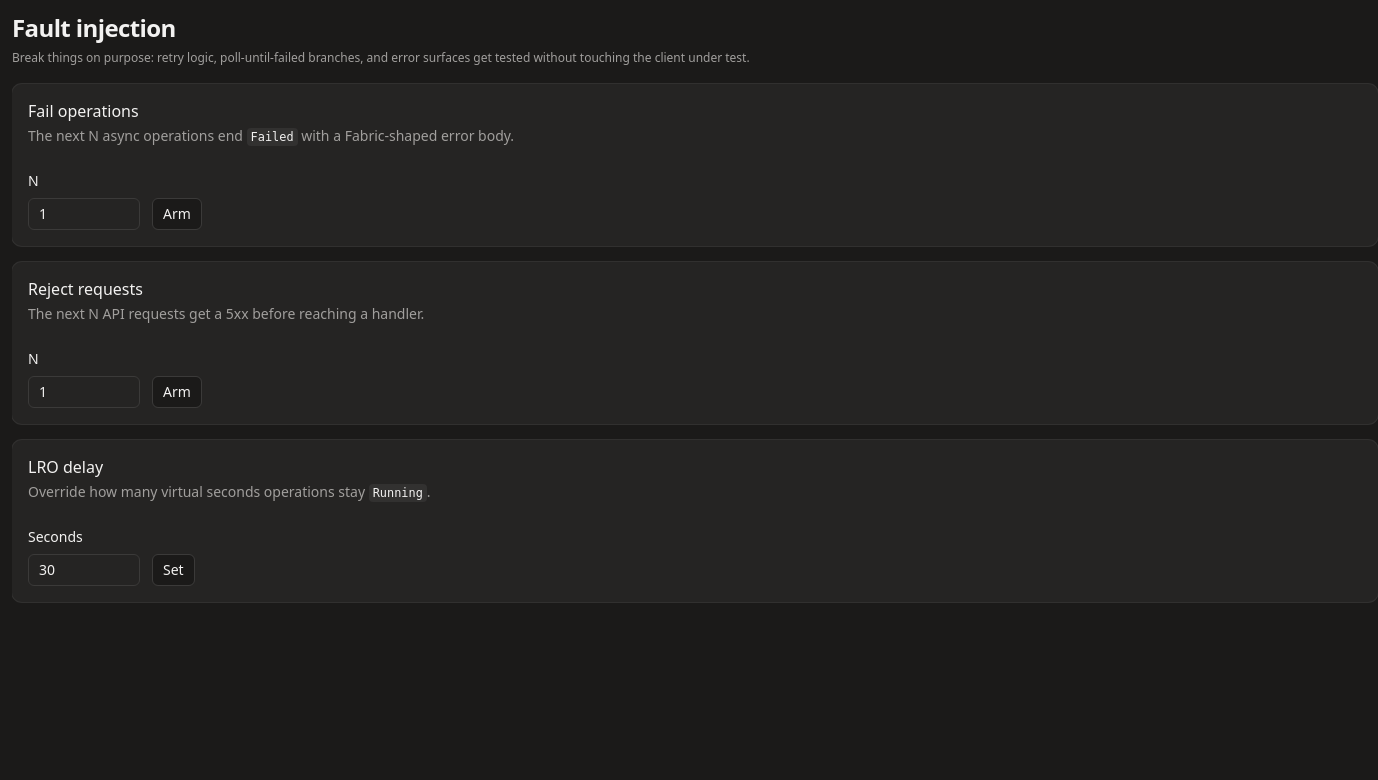
it: Faults › sets the LRO delay
Click the button "Set": (173, 570) [152,554,195,586]
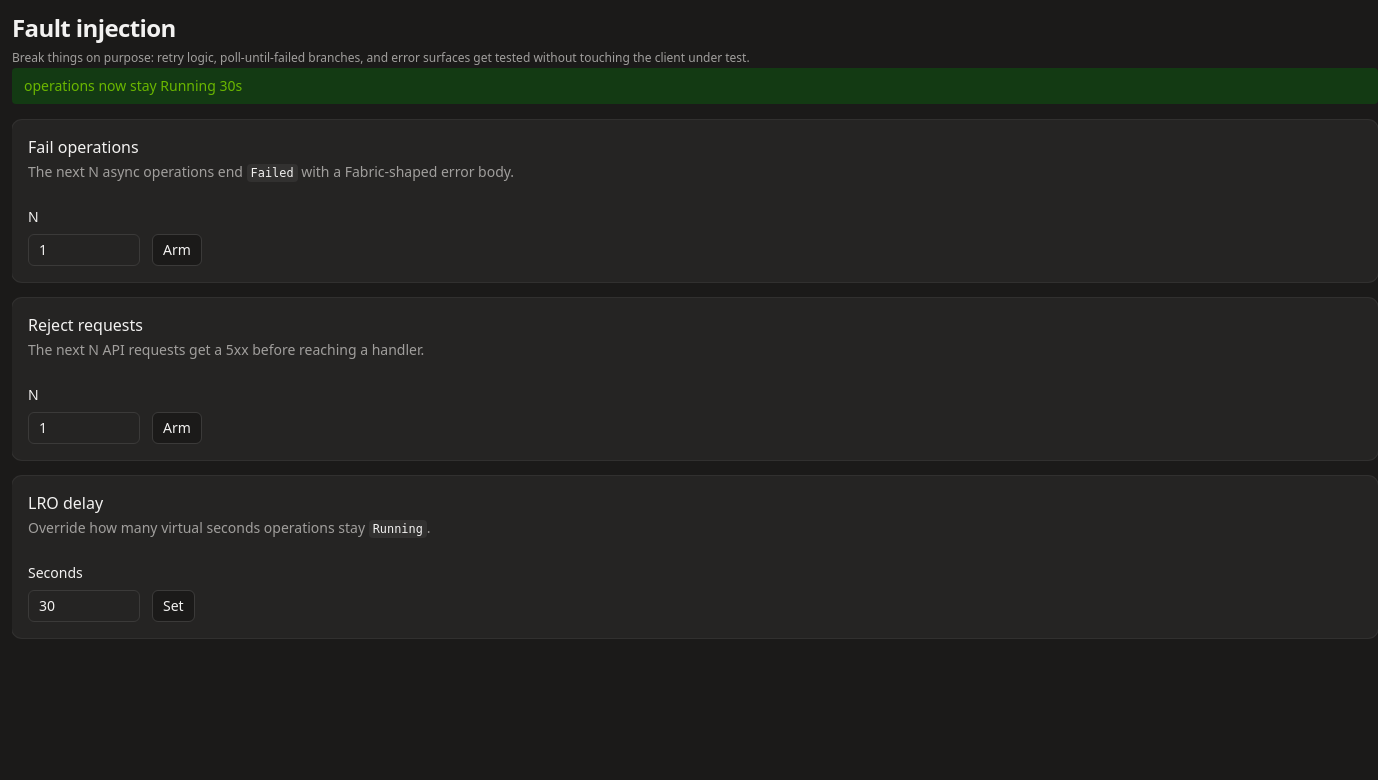
Now the text "operations now stay Running 30s" is shown, box [12,68,1377,104]
